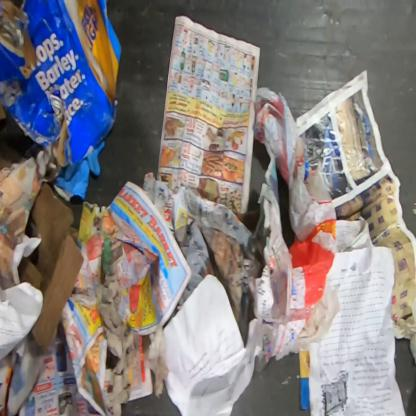cardboard: (0, 0, 122, 167), (18, 183, 84, 348)
soft_plastic: (253, 86, 337, 373)
